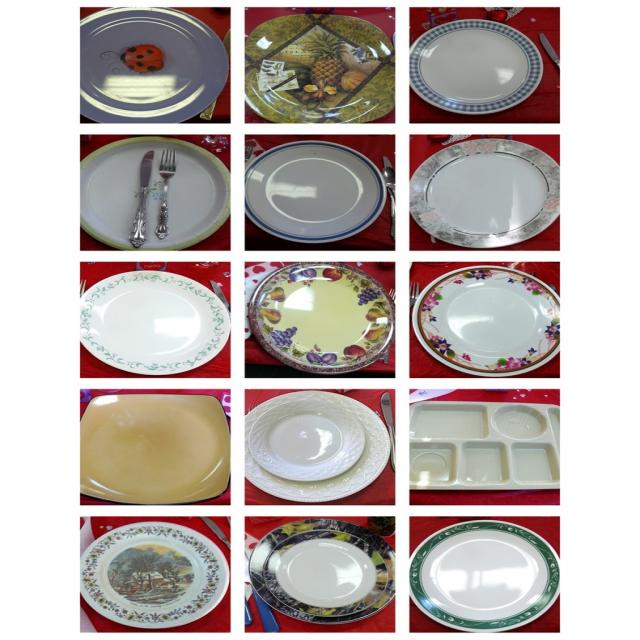non-organic waste: (63, 252, 242, 378), (62, 0, 235, 128), (241, 378, 407, 508), (233, 8, 409, 127), (58, 131, 232, 250), (233, 517, 401, 637), (75, 381, 239, 498), (404, 390, 570, 504), (398, 134, 558, 252), (410, 512, 566, 632), (241, 262, 400, 376), (402, 264, 564, 375), (74, 514, 229, 630), (403, 14, 548, 130), (252, 136, 384, 249)
